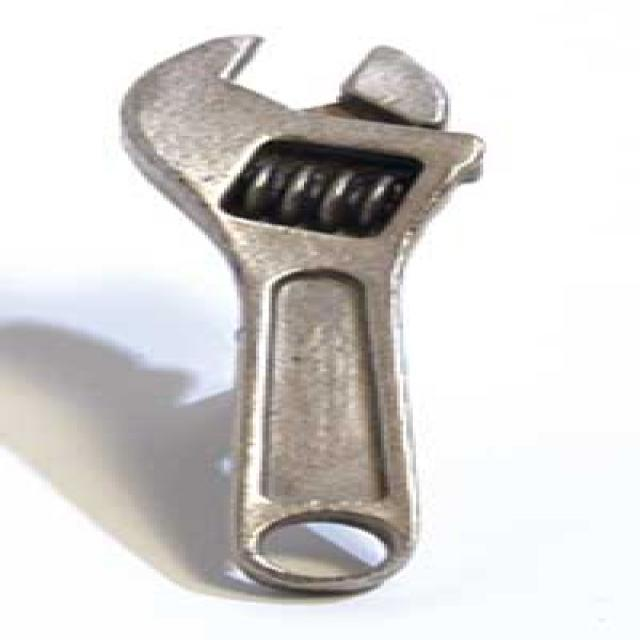wrench: (104, 24, 502, 613)
